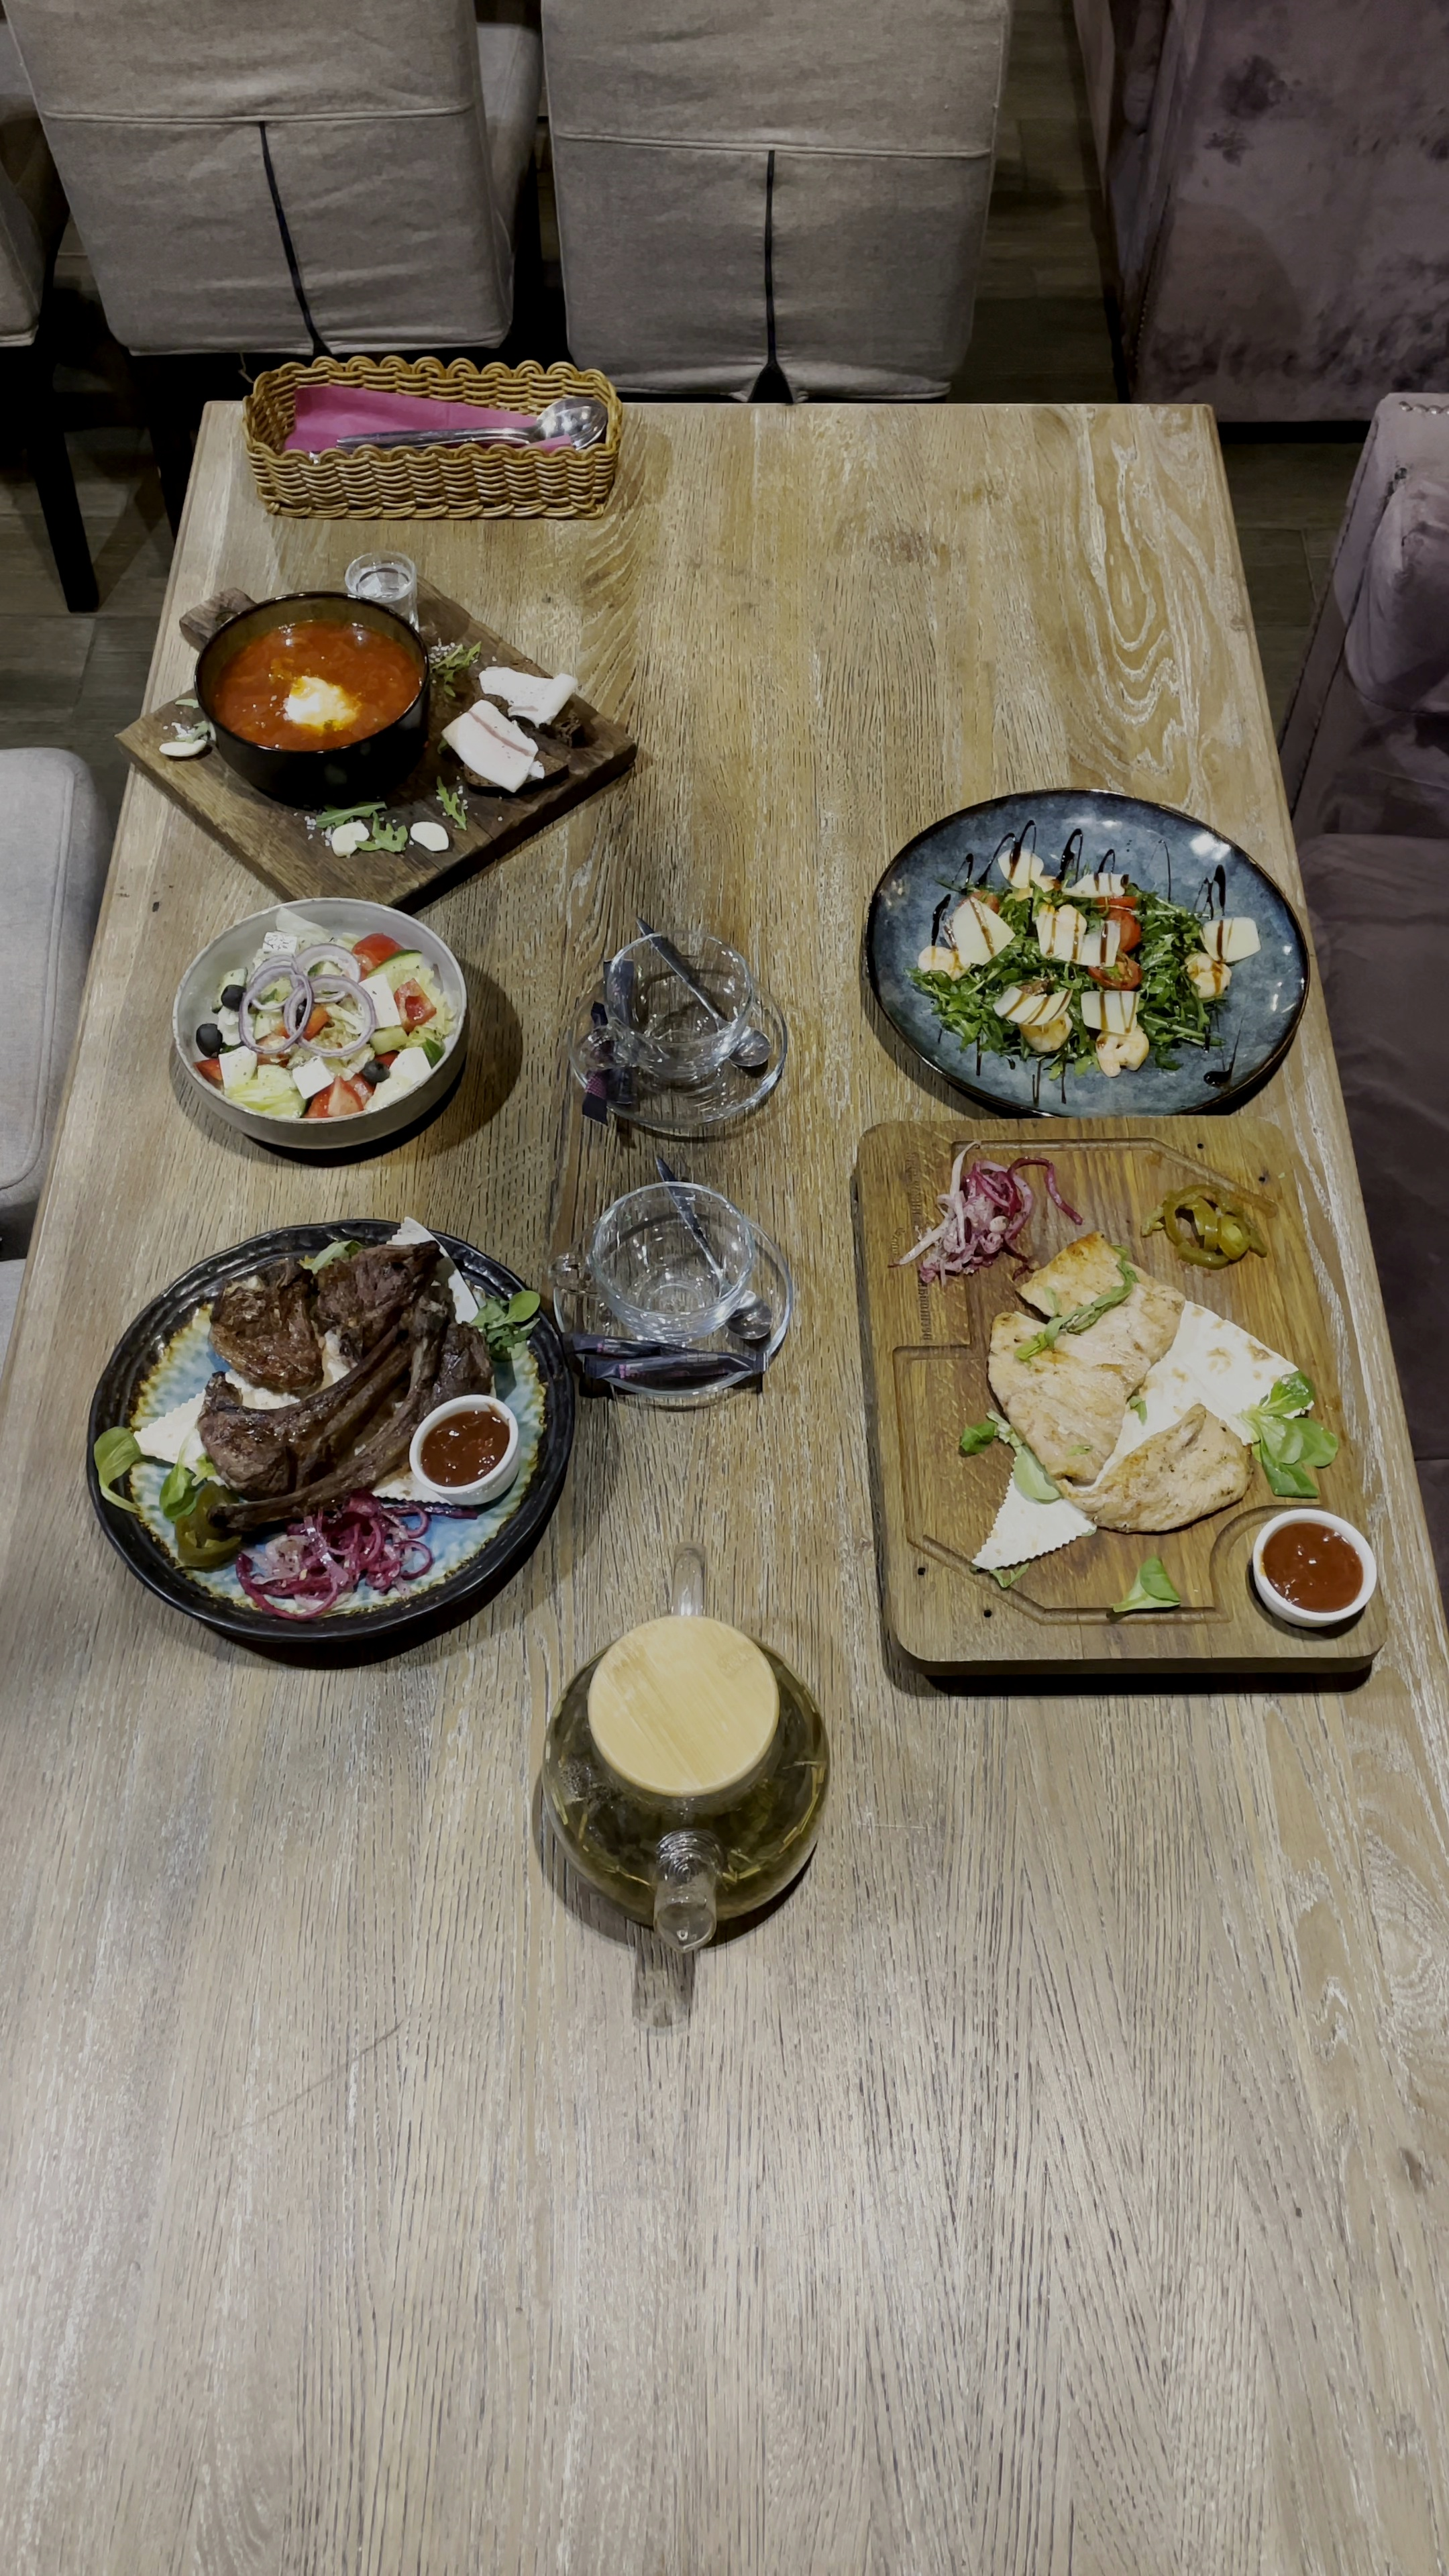Греческий салат: (157, 879, 487, 1177)
На дерев. с соусом и луком: (844, 1102, 1385, 1702)
Ребрышки с соусом: (69, 1198, 571, 1677)
Салат с курицей: (837, 768, 1318, 1116)
Суп с салом: (97, 540, 663, 950)
Чайник: (499, 1534, 874, 1976)
